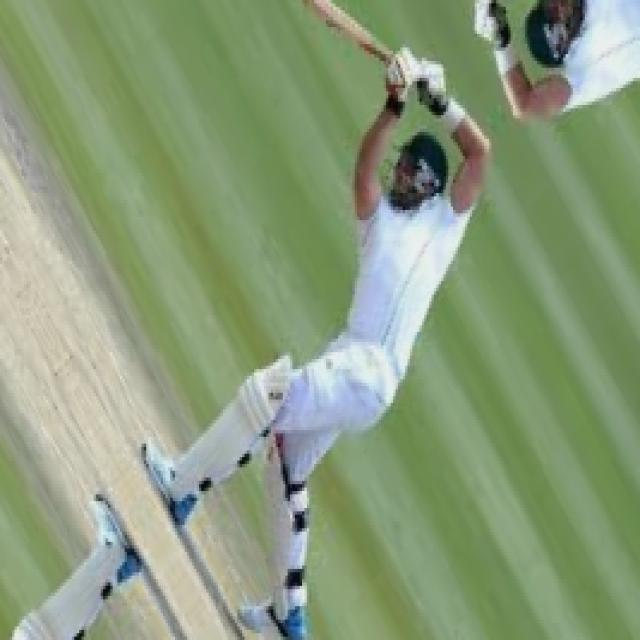bat: (294, 0, 408, 59)
